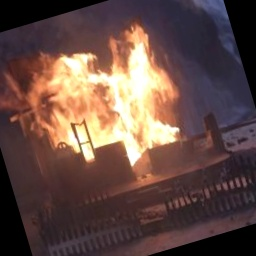fire: (0, 14, 187, 176)
